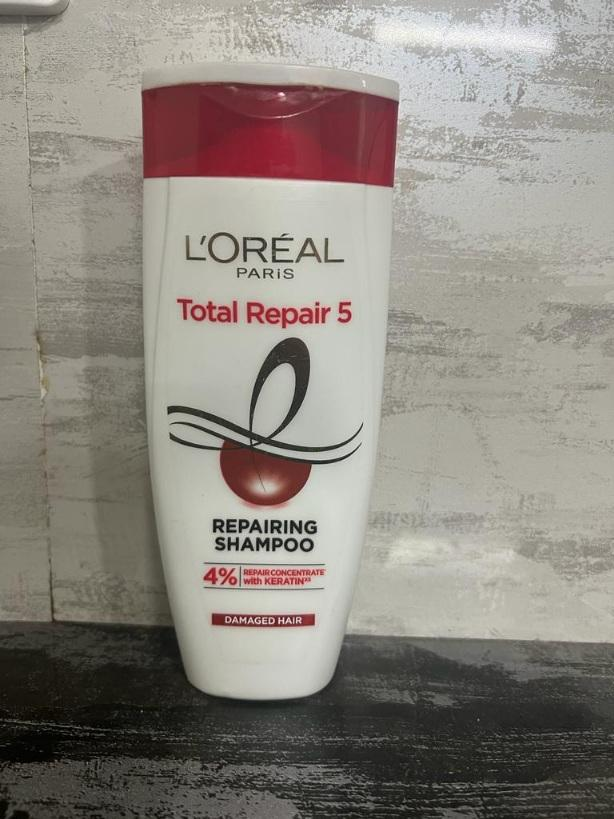Loreal: (139, 63, 402, 701)
